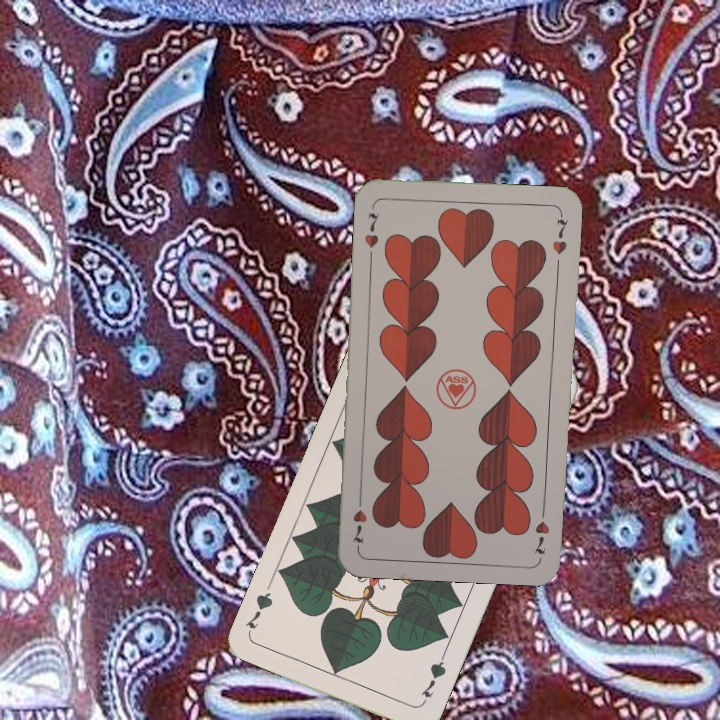G7: (416, 651, 449, 708)
H7: (530, 501, 553, 557), (360, 209, 382, 250)
